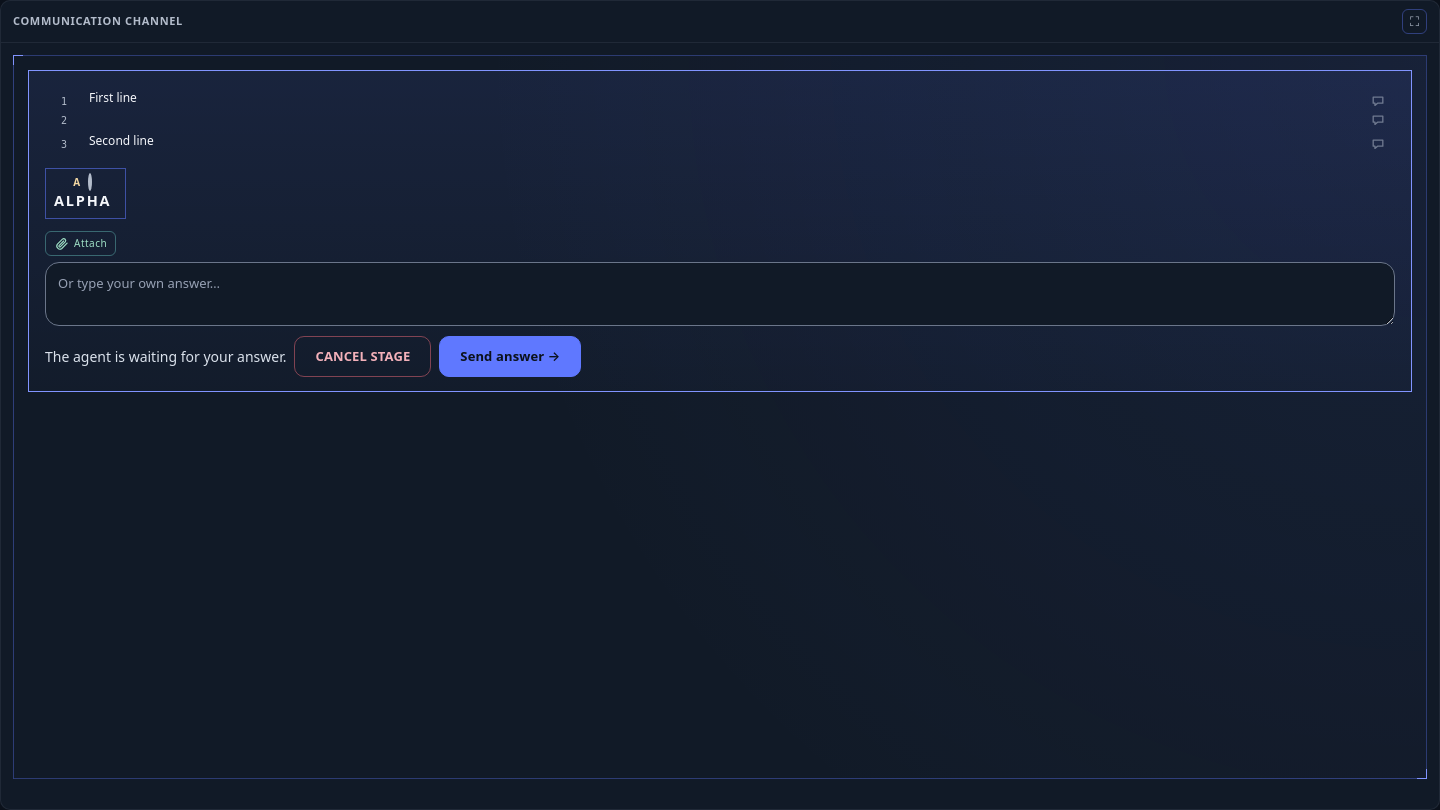
DialogChannel › the X on a saved comment removes it without opening the edit form
Click the text "First line" at (113, 98), box x1=89 y1=89 x2=137 y2=106
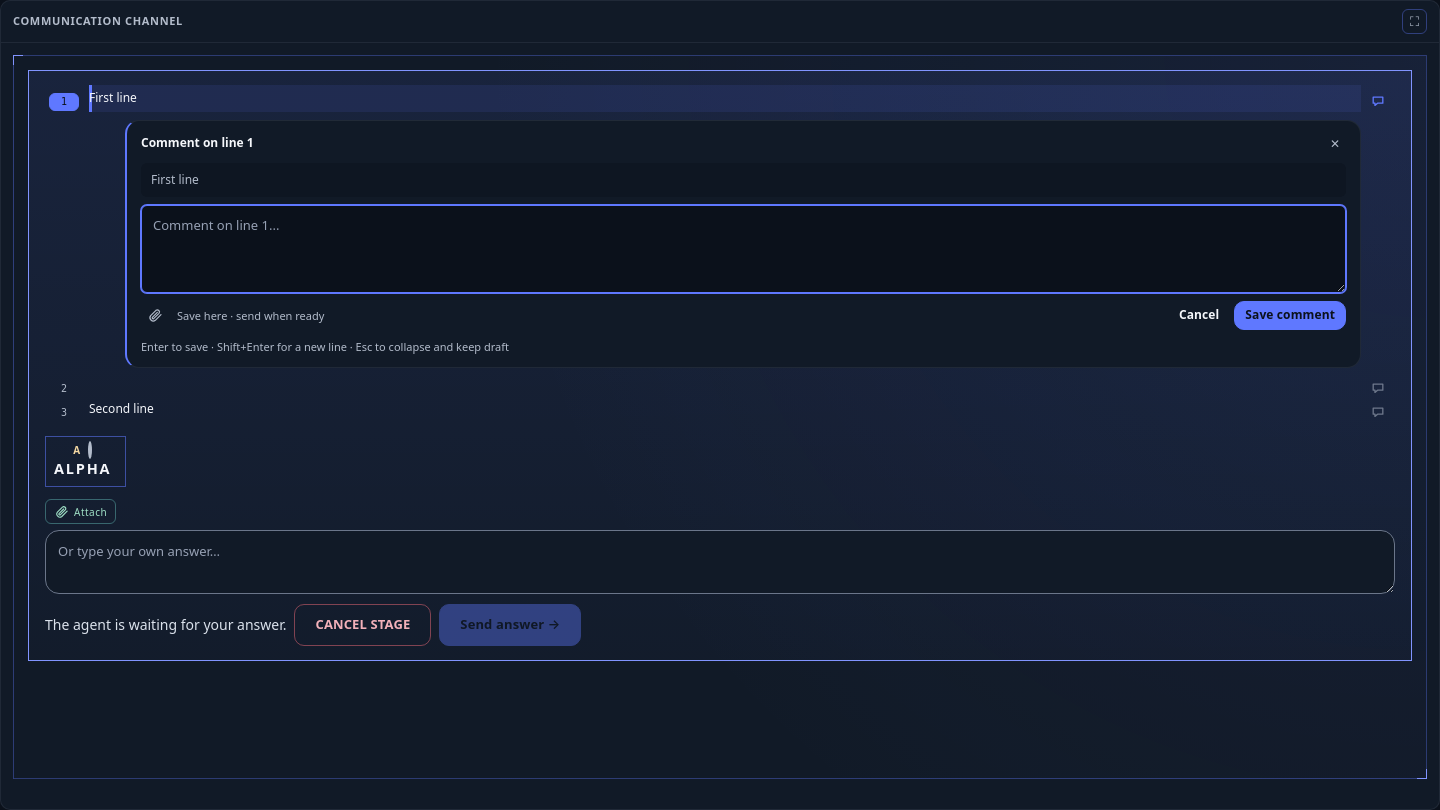
Type "please clarify" into the text box with placeholder "Comment on line 1..." at (744, 249), box x1=141 y1=205 x2=1346 y2=293
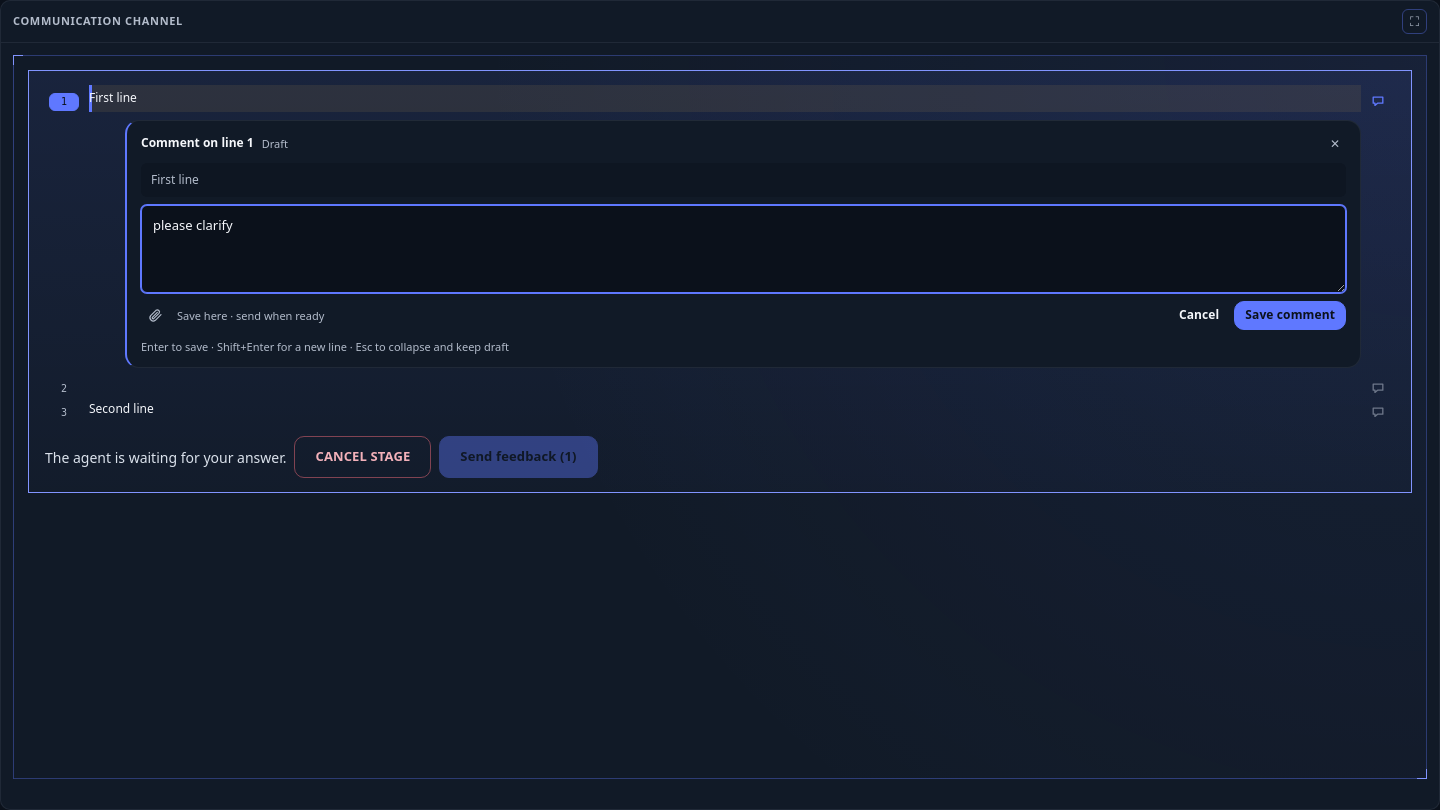
Click the button "Save comment" at (1290, 316), box x1=1234 y1=301 x2=1346 y2=330
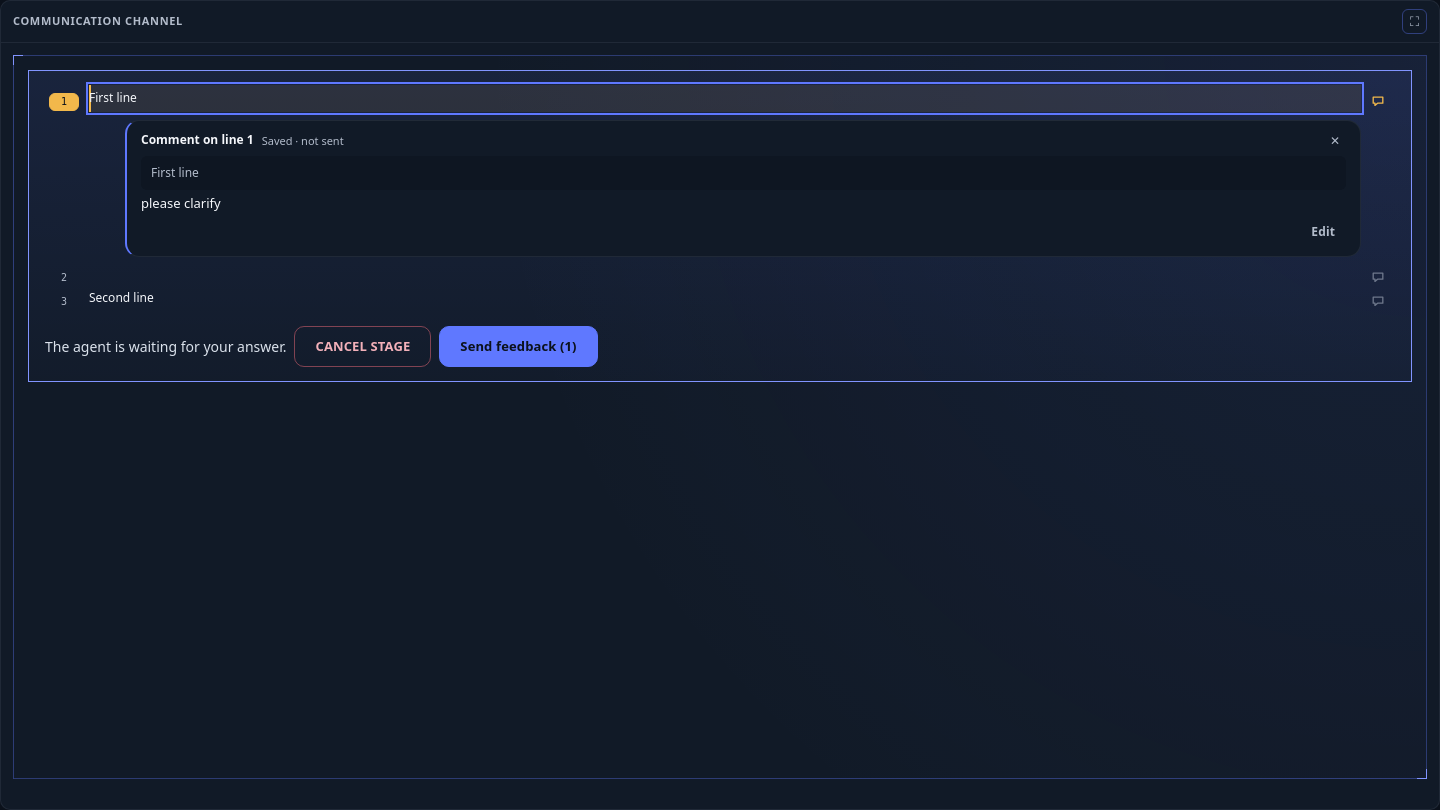
Expected: the button "Send feedback (1)" is shown, x1=439 y1=326 x2=598 y2=367
Expected: the element with class "line-comment-display" is shown, x1=125 y1=120 x2=1361 y2=257
Click the button named "Remove comment on line 1" at (1335, 141), box x1=1324 y1=130 x2=1346 y2=152
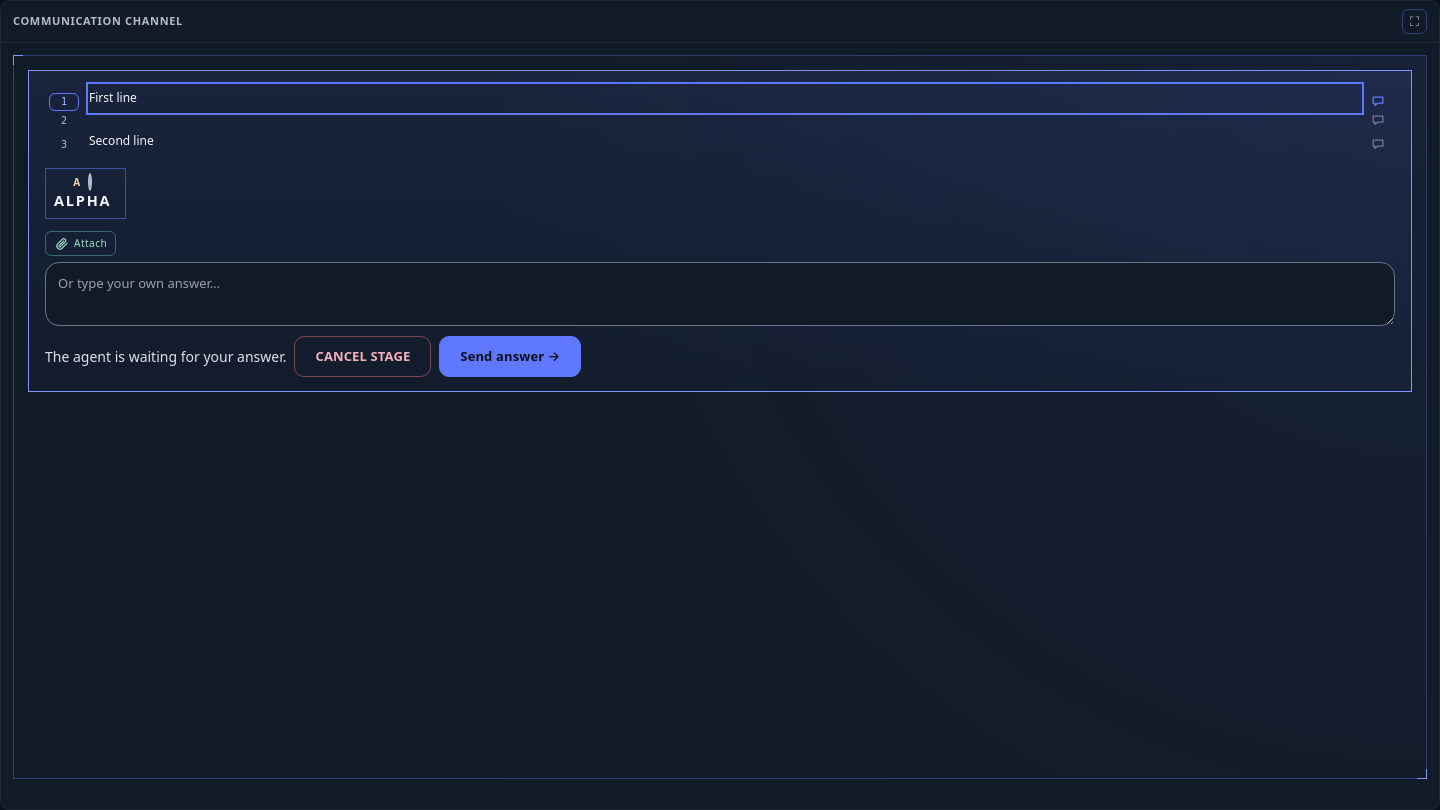
Expected: the element with class "line-comment-display" is gone
Expected: the element with class "line-comment-form" is gone
Expected: the button "Send feedback" is gone
